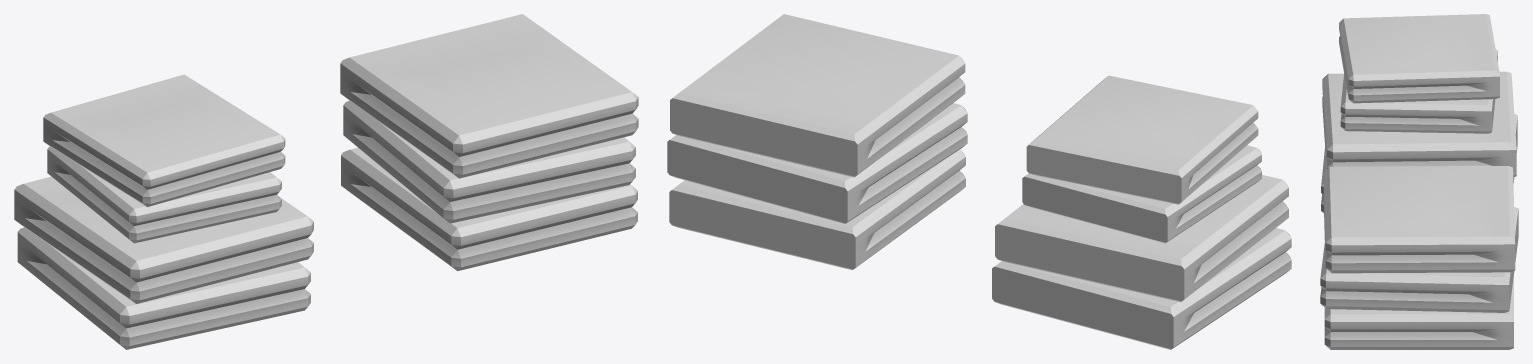
File: Asset_Sheets.fbx
3 renders of one model, left to right at view 1: azimuth 30°, elevation 25°; view 2: azimuth 150°, elevation 25°; view 3: azimuth 270°, elevation 25°, orthographic. The views are drawn at different scales.
Parts seen in each view (by area): view 1: Sheets_Pile_2_GRP, Sheets_Pile_1_GRP; view 2: Sheets_Pile_2_GRP, Sheets_Pile_1_GRP; view 3: Sheets_Pile_1_GRP, Sheets_Pile_2_GRP.
Boxes of the visible parts, box(x1,y1,x2,y2) form: Sheets_Pile_2_GRP: box(14, 74, 313, 349); Sheets_Pile_1_GRP: box(340, 14, 638, 271); Sheets_Pile_2_GRP: box(992, 75, 1291, 349); Sheets_Pile_1_GRP: box(667, 14, 967, 270); Sheets_Pile_1_GRP: box(1320, 166, 1518, 349); Sheets_Pile_2_GRP: box(1321, 14, 1517, 213).
Bounding box in the file's own units: 1.94 × 0.6153 × 0.7681.
